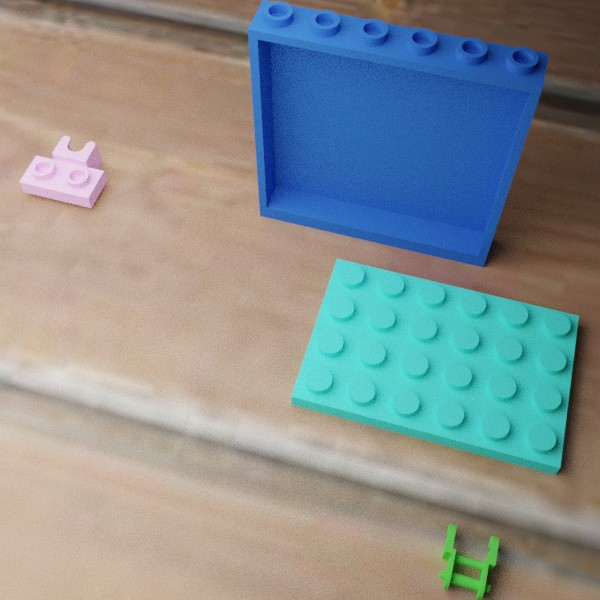lego: (247, 0, 549, 267), (291, 258, 578, 475), (19, 135, 106, 208), (438, 523, 498, 599)
